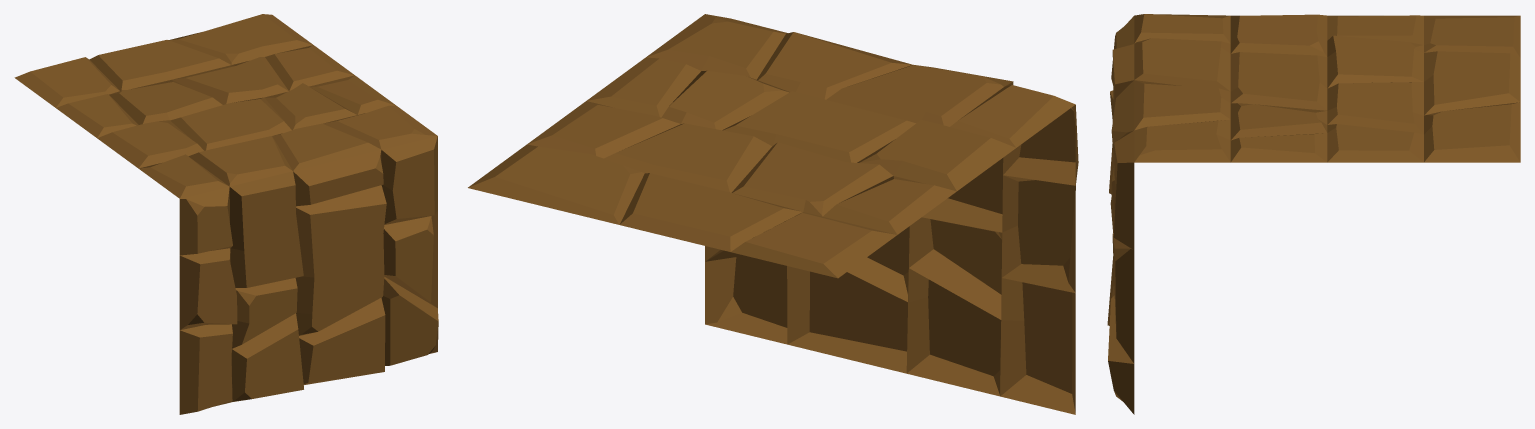
Rendered from Cave_Ground02.fbx.
The picture shows the model from 3 angles, left to right: view 1: azimuth 30°, elevation 25°; view 2: azimuth 150°, elevation 25°; view 3: azimuth 270°, elevation 25°; orthographic projection. The views are drawn at different scales.
Parts seen in each view (by area): view 1: Cave_Ground01.002; view 2: Cave_Ground01.002; view 3: Cave_Ground01.002.
Boxes of the visible parts, x1,y1,x2,y2 form: Cave_Ground01.002: [14, 14, 438, 414]; Cave_Ground01.002: [468, 14, 1078, 414]; Cave_Ground01.002: [1107, 14, 1520, 414].
Bounding box in the file's own units: 2645 × 2201 × 3140.
